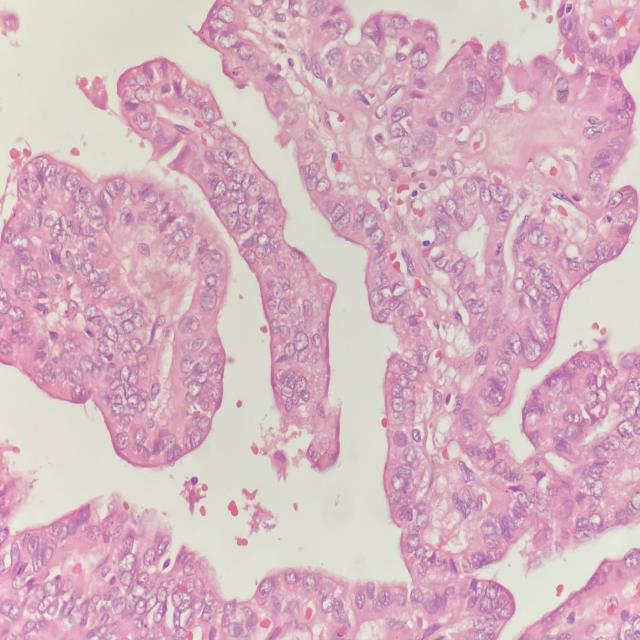TC: (486, 177, 512, 210), (196, 285, 222, 313), (127, 179, 147, 213), (388, 462, 409, 493), (193, 250, 219, 275), (505, 323, 523, 357), (291, 324, 310, 356), (473, 340, 492, 372), (434, 216, 454, 245), (510, 268, 530, 297), (412, 507, 433, 533), (369, 282, 388, 309), (97, 182, 115, 210), (251, 238, 270, 264), (387, 393, 409, 415), (487, 457, 509, 479), (313, 173, 333, 197), (292, 369, 310, 395), (397, 355, 418, 377), (178, 354, 199, 376), (277, 295, 296, 319), (361, 208, 379, 232), (409, 426, 425, 453), (136, 237, 154, 261), (428, 386, 444, 412), (415, 279, 431, 302), (463, 176, 477, 199)
